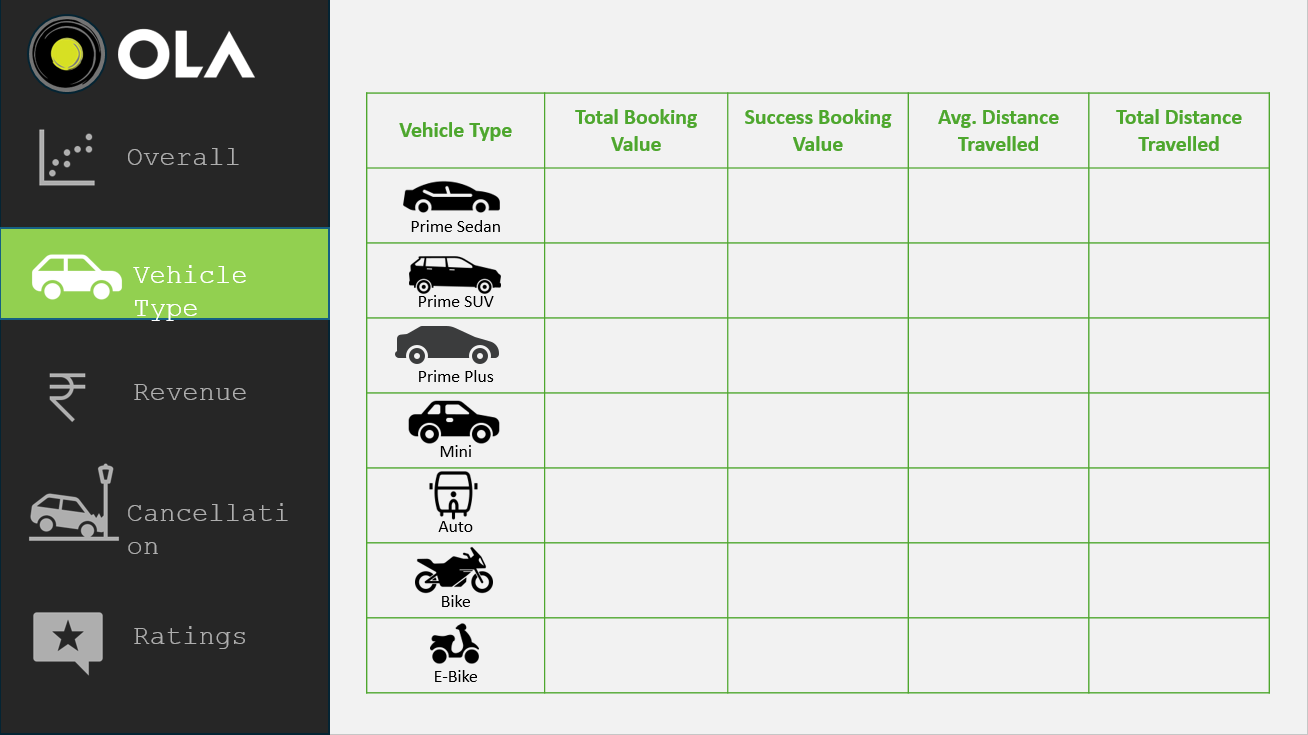

The page's visual inventory and layout, read from the dashboard file:
{"tool":"powerbi","page":{"name":"VEEHICAL TYPE","canvas":[1280,720],"ordinal":1},"visuals":[{"type":"actionButton","box":[0,116.2,315,78.8],"z":0},{"type":"actionButton","box":[0,215.4,315.6,100.2],"z":1000},{"type":"actionButton","box":[0,333.4,315.6,97.4],"z":2000},{"type":"actionButton","box":[0,448.7,315.6,97.4],"z":3000},{"type":"actionButton","box":[0,585.9,315.6,93.3],"z":4000},{"type":"card","fields":{"Values":["Sum(Sheet1.Booking_Value)"]},"box":[529.7,155.1,182.5,74.1],"z":5000},{"type":"card","fields":{"Values":["Sum(Sheet1.Booking_Value)"]},"box":[529.7,229.2,182.5,74.1],"z":6000},{"type":"card","fields":{"Values":["Sum(Sheet1.Booking_Value)"]},"box":[529.7,308.7,182.5,74.1],"z":7000},{"type":"card","fields":{"Values":["Sum(Sheet1.Booking_Value)"]},"box":[531,382.8,182.5,74.1],"z":8000},{"type":"card","fields":{"Values":["Sum(Sheet1.Booking_Value)"]},"box":[529.7,456.9,182.5,74.1],"z":9000},{"type":"card","fields":{"Values":["Sum(Sheet1.Booking_Value)"]},"box":[529.7,531,182.5,74.1],"z":10000},{"type":"card","fields":{"Values":["Sum(Sheet1.Booking_Value)"]},"box":[529.7,605.1,182.5,74.1],"z":11000},{"type":"card","fields":{"Values":["Sum(Sheet1.Booking_Value)"]},"box":[712.2,157.8,182.5,74.1],"z":12000},{"type":"card","fields":{"Values":["Sum(Sheet1.Booking_Value)"]},"box":[712.2,605.1,182.5,74.1],"z":13000},{"type":"card","fields":{"Values":["Sum(Sheet1.Booking_Value)"]},"box":[712.2,531,182.5,74.1],"z":14000},{"type":"card","fields":{"Values":["Sum(Sheet1.Booking_Value)"]},"box":[713.6,456.9,182.5,74.1],"z":15000},{"type":"card","fields":{"Values":["Sum(Sheet1.Booking_Value)"]},"box":[712.2,382.8,182.5,74.1],"z":16000},{"type":"card","fields":{"Values":["Sum(Sheet1.Booking_Value)"]},"box":[713.6,308.7,182.5,74.1],"z":17000},{"type":"card","fields":{"Values":["Sum(Sheet1.Booking_Value)"]},"box":[713.6,229.2,182.5,74.1],"z":18000},{"type":"card","fields":{"Values":["Avg(Sheet1.Ride_Distance)"]},"box":[894.7,157.8,179.8,74.1],"z":19000},{"type":"card","fields":{"Values":["Avg(Sheet1.Ride_Distance)"]},"box":[894.7,231.9,179.8,74.1],"z":20000},{"type":"card","fields":{"Values":["Avg(Sheet1.Ride_Distance)"]},"box":[894.7,308.7,179.8,74.1],"z":21000},{"type":"card","fields":{"Values":["Avg(Sheet1.Ride_Distance)"]},"box":[894.7,382.8,179.8,74.1],"z":22000},{"type":"card","fields":{"Values":["Avg(Sheet1.Ride_Distance)"]},"box":[894.7,456.9,179.8,74.1],"z":23000},{"type":"card","fields":{"Values":["Avg(Sheet1.Ride_Distance)"]},"box":[896.1,531,179.8,74.1],"z":24000},{"type":"card","fields":{"Values":["Avg(Sheet1.Ride_Distance)"]},"box":[894.7,605.1,179.8,74.1],"z":25000},{"type":"card","fields":{"Values":["Sum(Sheet1.Ride_Distance)"]},"box":[1074.4,157.8,179.8,74.1],"z":26000},{"type":"card","fields":{"Values":["Sum(Sheet1.Ride_Distance)"]},"box":[1075.8,605.1,179.8,74.1],"z":27000},{"type":"card","fields":{"Values":["Sum(Sheet1.Ride_Distance)"]},"box":[1074.4,531,179.8,74.1],"z":28000},{"type":"card","fields":{"Values":["Sum(Sheet1.Ride_Distance)"]},"box":[1074.4,456.9,179.8,74.1],"z":29000},{"type":"card","fields":{"Values":["Sum(Sheet1.Ride_Distance)"]},"box":[1074.4,382.8,179.8,74.1],"z":30000},{"type":"card","fields":{"Values":["Sum(Sheet1.Ride_Distance)"]},"box":[1075.8,306,179.8,74.1],"z":31000},{"type":"card","fields":{"Values":["Sum(Sheet1.Ride_Distance)"]},"box":[1074.4,229.2,179.8,74.1],"z":32000},{"type":"slicer","title":"DATE","fields":{"Values":["Sheet1.Date"]},"box":[932.5,4.9,347.2,62.6],"z":33000}]}

Visuals, with their boxes on the page's 1280x720 design canvas (x1, y1, x2, y2). These are canvas units, not pixel positions in the 1308x735 screenshot, which may show the page scaled, cropped or inside an application window:
actionButton: detection(0, 116, 315, 195)
actionButton: detection(0, 215, 316, 316)
actionButton: detection(0, 333, 316, 431)
actionButton: detection(0, 449, 316, 546)
actionButton: detection(0, 586, 316, 679)
card - Sum(Sheet1.Booking_Value): detection(530, 155, 712, 229)
card - Sum(Sheet1.Booking_Value): detection(530, 229, 712, 303)
card - Sum(Sheet1.Booking_Value): detection(530, 309, 712, 383)
card - Sum(Sheet1.Booking_Value): detection(531, 383, 714, 457)
card - Sum(Sheet1.Booking_Value): detection(530, 457, 712, 531)
card - Sum(Sheet1.Booking_Value): detection(530, 531, 712, 605)
card - Sum(Sheet1.Booking_Value): detection(530, 605, 712, 679)
card - Sum(Sheet1.Booking_Value): detection(712, 158, 895, 232)
card - Sum(Sheet1.Booking_Value): detection(712, 605, 895, 679)
card - Sum(Sheet1.Booking_Value): detection(712, 531, 895, 605)
card - Sum(Sheet1.Booking_Value): detection(714, 457, 896, 531)
card - Sum(Sheet1.Booking_Value): detection(712, 383, 895, 457)
card - Sum(Sheet1.Booking_Value): detection(714, 309, 896, 383)
card - Sum(Sheet1.Booking_Value): detection(714, 229, 896, 303)
card - Avg(Sheet1.Ride_Distance): detection(895, 158, 1074, 232)
card - Avg(Sheet1.Ride_Distance): detection(895, 232, 1074, 306)
card - Avg(Sheet1.Ride_Distance): detection(895, 309, 1074, 383)
card - Avg(Sheet1.Ride_Distance): detection(895, 383, 1074, 457)
card - Avg(Sheet1.Ride_Distance): detection(895, 457, 1074, 531)
card - Avg(Sheet1.Ride_Distance): detection(896, 531, 1076, 605)
card - Avg(Sheet1.Ride_Distance): detection(895, 605, 1074, 679)
card - Sum(Sheet1.Ride_Distance): detection(1074, 158, 1254, 232)
card - Sum(Sheet1.Ride_Distance): detection(1076, 605, 1256, 679)
card - Sum(Sheet1.Ride_Distance): detection(1074, 531, 1254, 605)
card - Sum(Sheet1.Ride_Distance): detection(1074, 457, 1254, 531)
card - Sum(Sheet1.Ride_Distance): detection(1074, 383, 1254, 457)
card - Sum(Sheet1.Ride_Distance): detection(1076, 306, 1256, 380)
card - Sum(Sheet1.Ride_Distance): detection(1074, 229, 1254, 303)
"DATE" slicer: detection(932, 5, 1280, 68)
